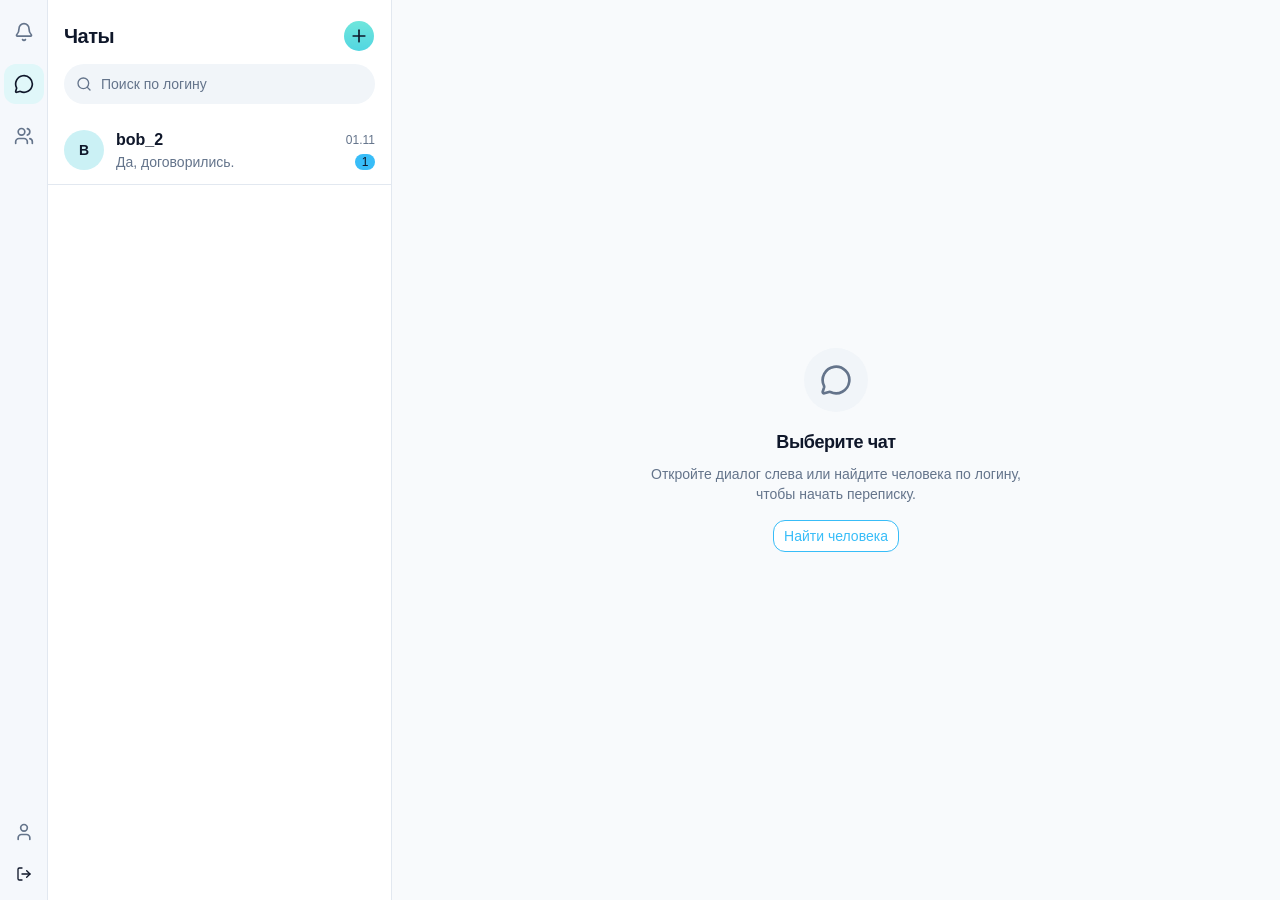
Test: ChatListPage › shows not-found search empty state
The width and height of the screenshot is (1280, 900).
Expected: the heading "Чаты" is shown, top-left (64, 22), bottom-right (114, 50)
In the search field labelled "Поиск по логину": (220, 84) top-left (64, 64), bottom-right (375, 104), type "zzz"
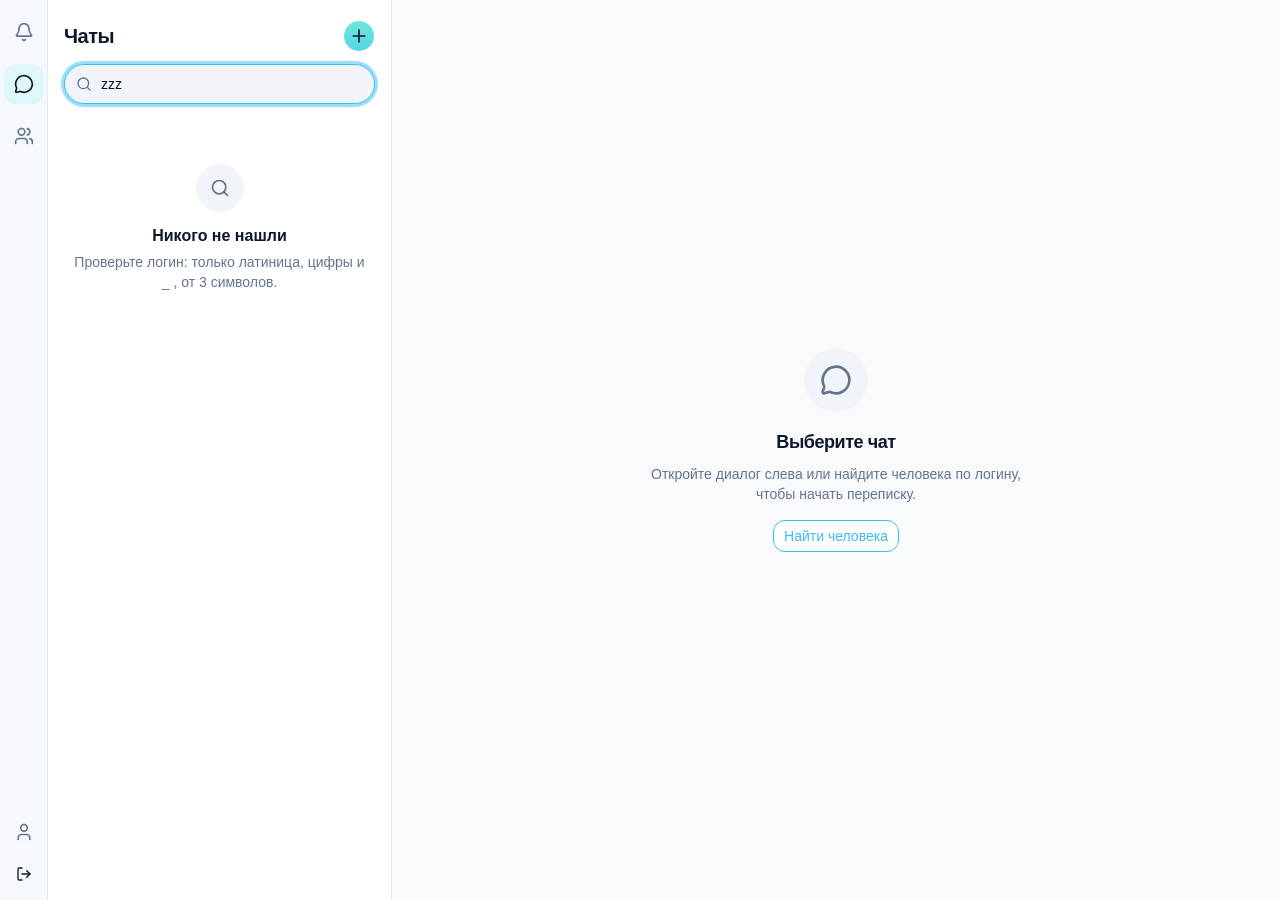
Expected: the text "Никого не нашли" is shown, top-left (152, 227), bottom-right (287, 244)
Expected: the text "Проверьте логин: только латиница, цифры и _ , от 3 символов." is shown, top-left (72, 252), bottom-right (367, 292)
